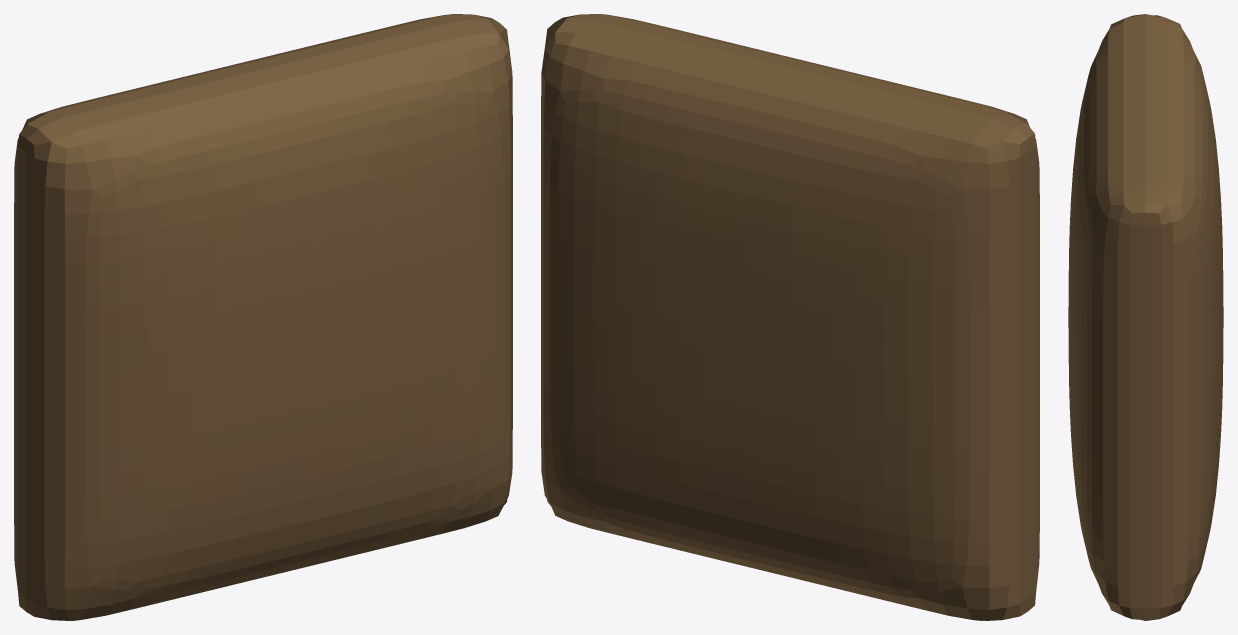
File: CAL-CUS-std.glb
The picture shows the model from 3 angles, left to right: view 1: azimuth 30°, elevation 25°; view 2: azimuth 150°, elevation 25°; view 3: azimuth 270°, elevation 25°; orthographic projection. The views are drawn at different scales.
Parts seen in each view (by area): view 1: pillow:pbr; view 2: pillow:pbr; view 3: pillow:pbr.
Part boxes in pixels (x1,y1,x2,y2): pillow:pbr: [14, 14, 512, 620]; pillow:pbr: [541, 14, 1039, 620]; pillow:pbr: [1068, 14, 1223, 620].
Bounding box in the file's own units: 0.4423 × 0.4423 × 0.1453.
